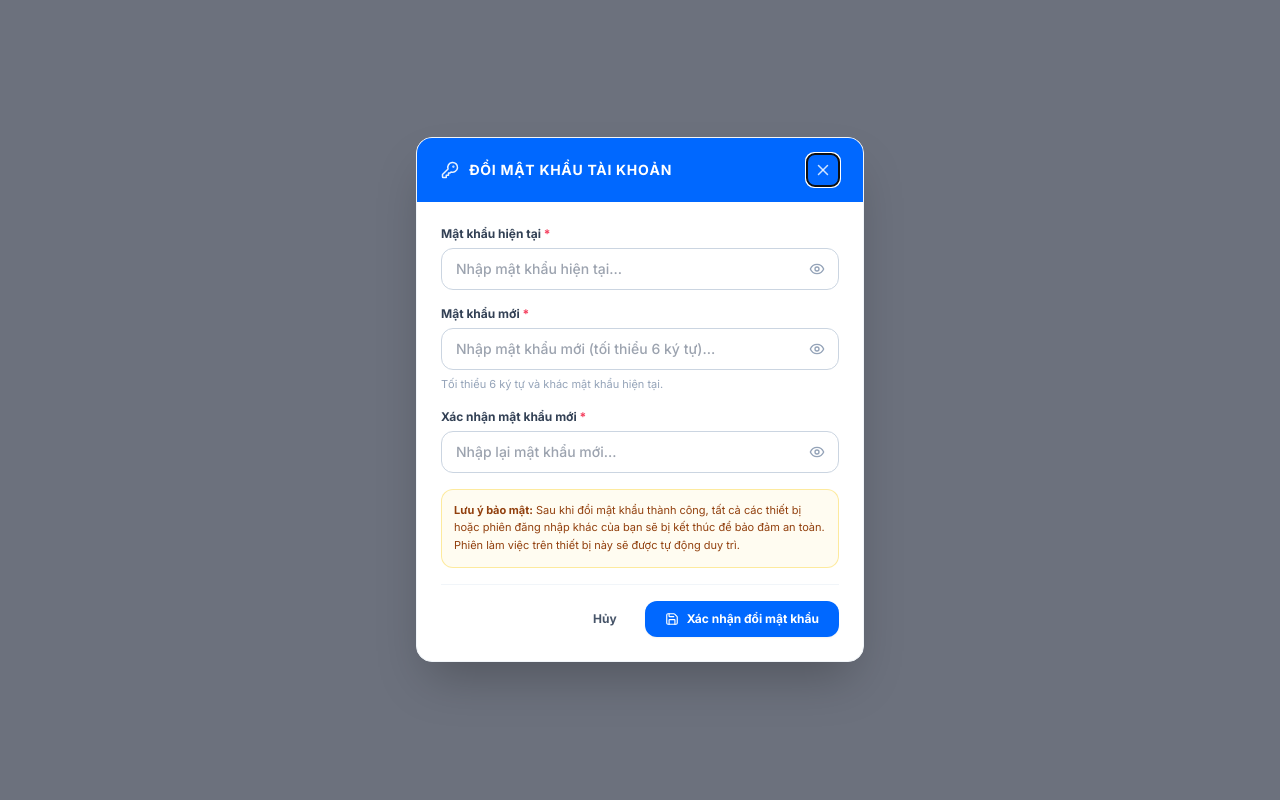
it: NCL-01-CN-006: Đổi mật khẩu và cập nhật hồ sơ cá nhân › NCL-01-CN-006-TC-02: Dữ liệu đổi mật khẩu không hợp lệ › shows validation error when confirmation password does not match
In the password field with placeholder "Nhập mật khẩu hiện tại...": {"x": 640, "y": 269} [441,248,839,290], type "OldPassword123"
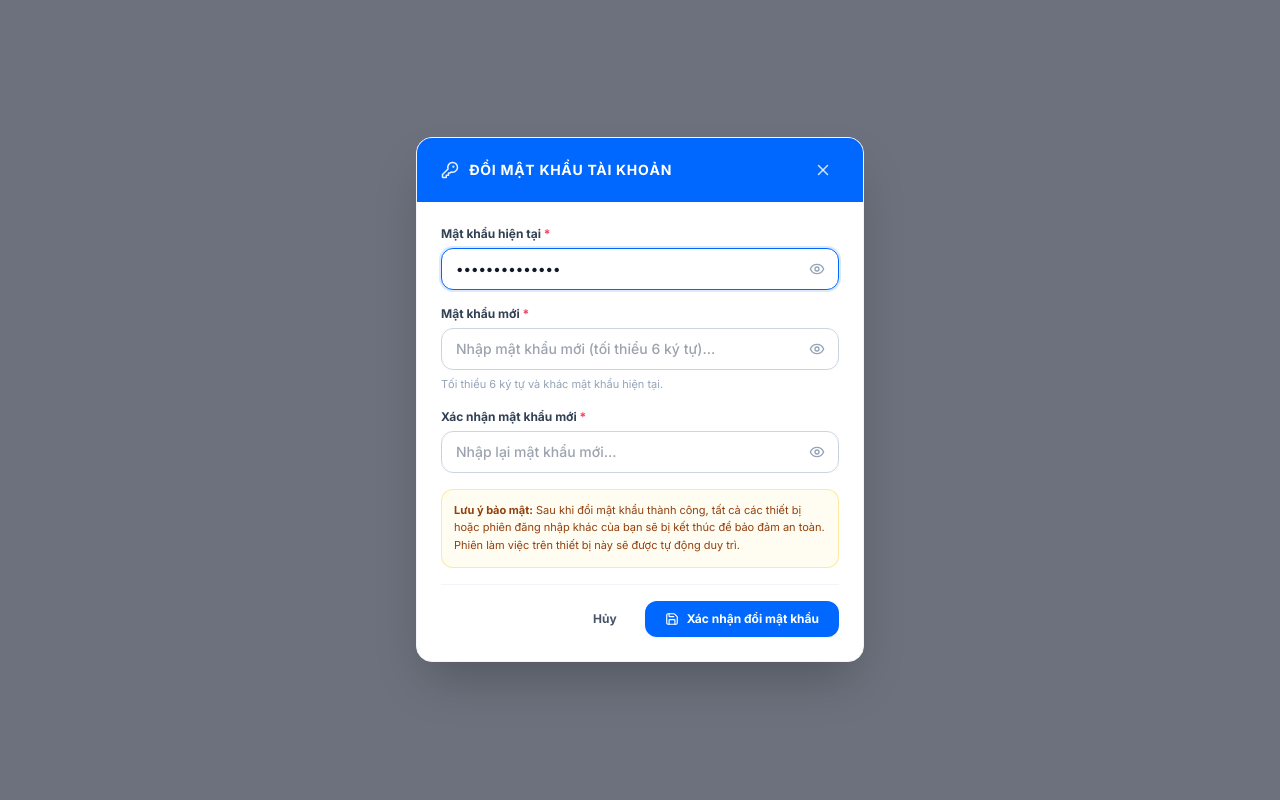
In the password field with placeholder "Nhập mật khẩu mới (tối thiểu 6 ký tự)...": {"x": 640, "y": 349} [441,328,839,370], type "NewPassword456"
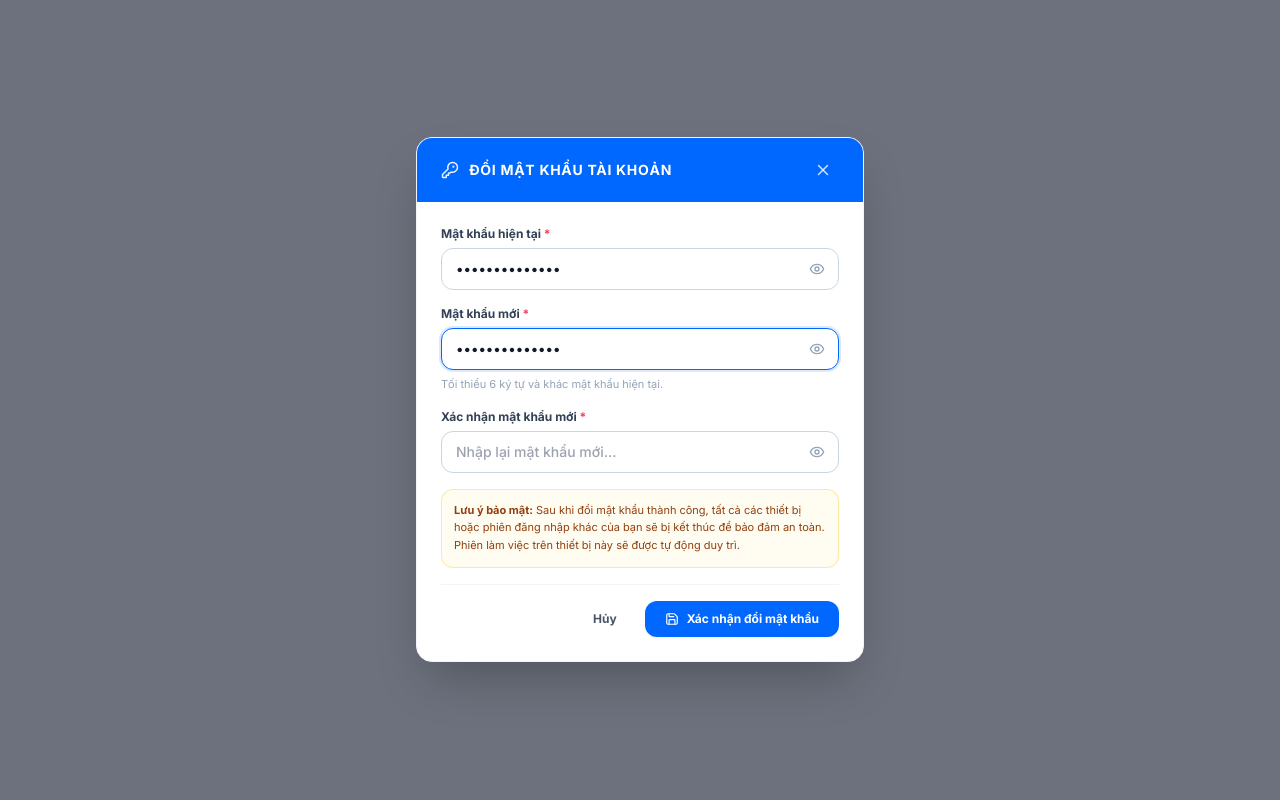
In the password field with placeholder "Nhập lại mật khẩu mới...": {"x": 640, "y": 452} [441,431,839,473], type "DifferentPassword789"
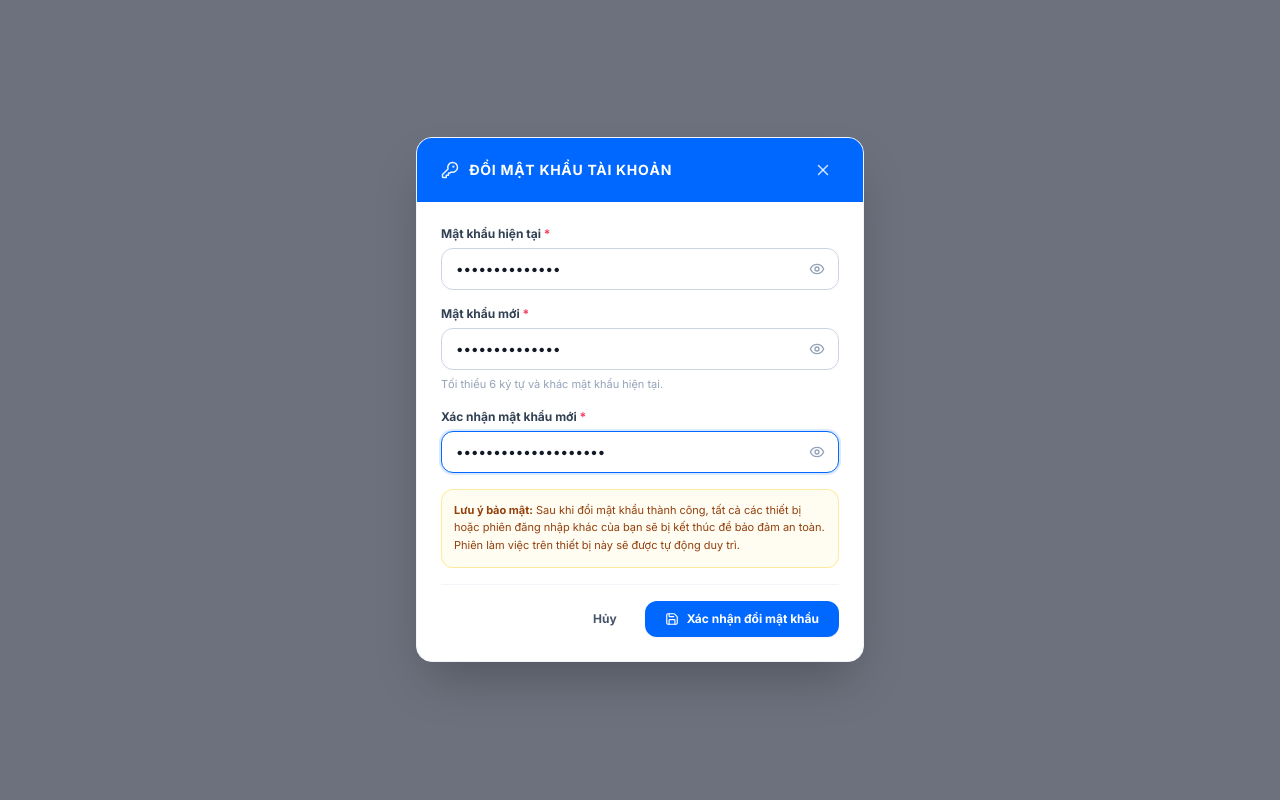
Click the button "Xác nhận đổi mật khẩu": {"x": 742, "y": 620} [645,602,839,638]
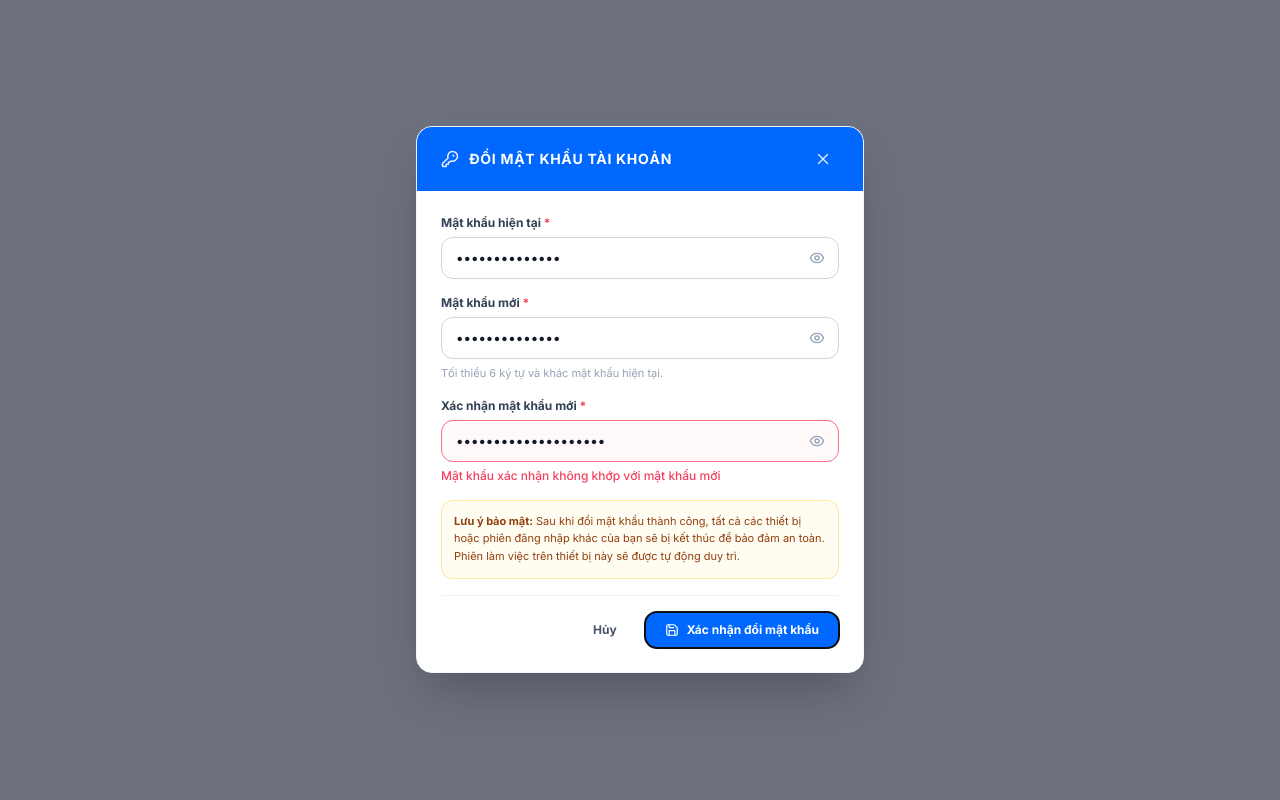
Check: the text "Mật khẩu xác nhận không khớp với mật khẩu mới" is shown, box [441,468,720,483]
